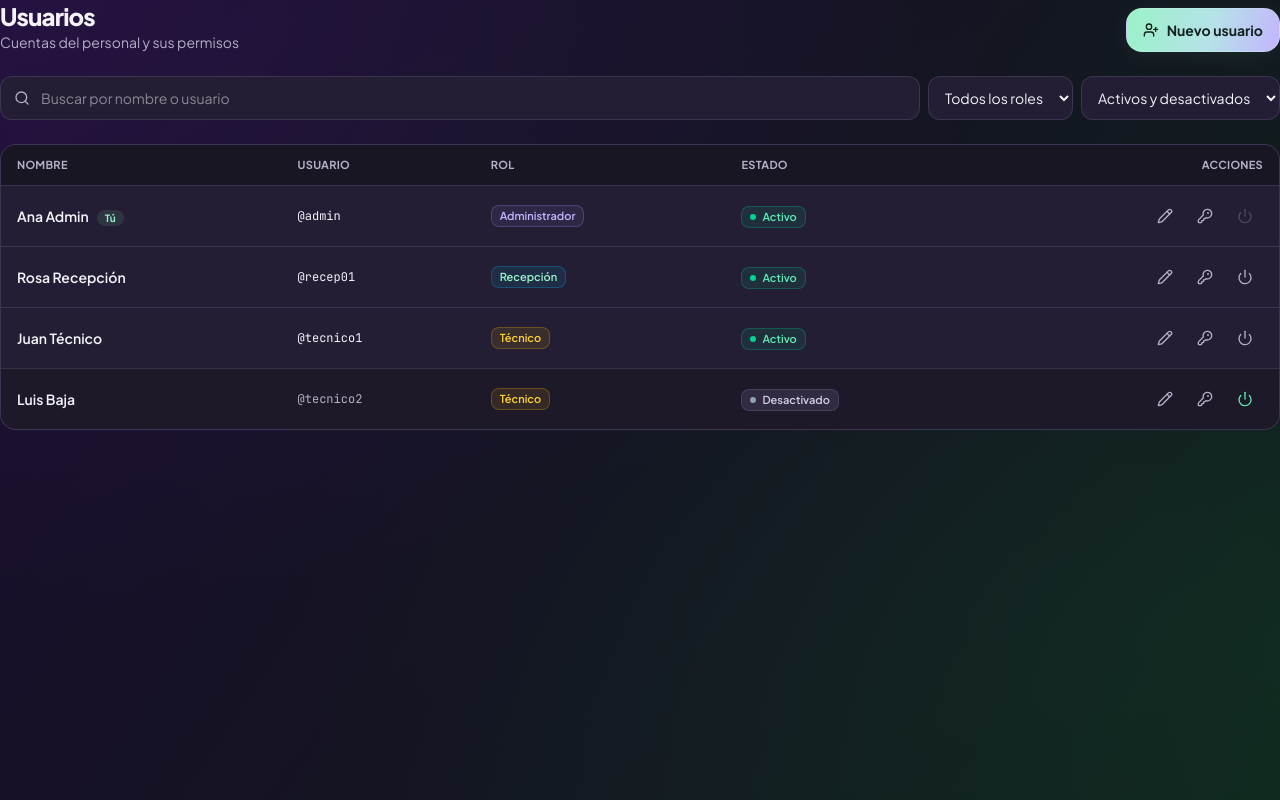
Scenario: UsersPage create modal › creates the account, shows a toast and refreshes the list [008/RF-2.5]
Expected: the text "Rosa Recepción" is shown, [1,246,282,307]
Click the button "Nuevo usuario": (1203, 30) [1126,8,1279,52]
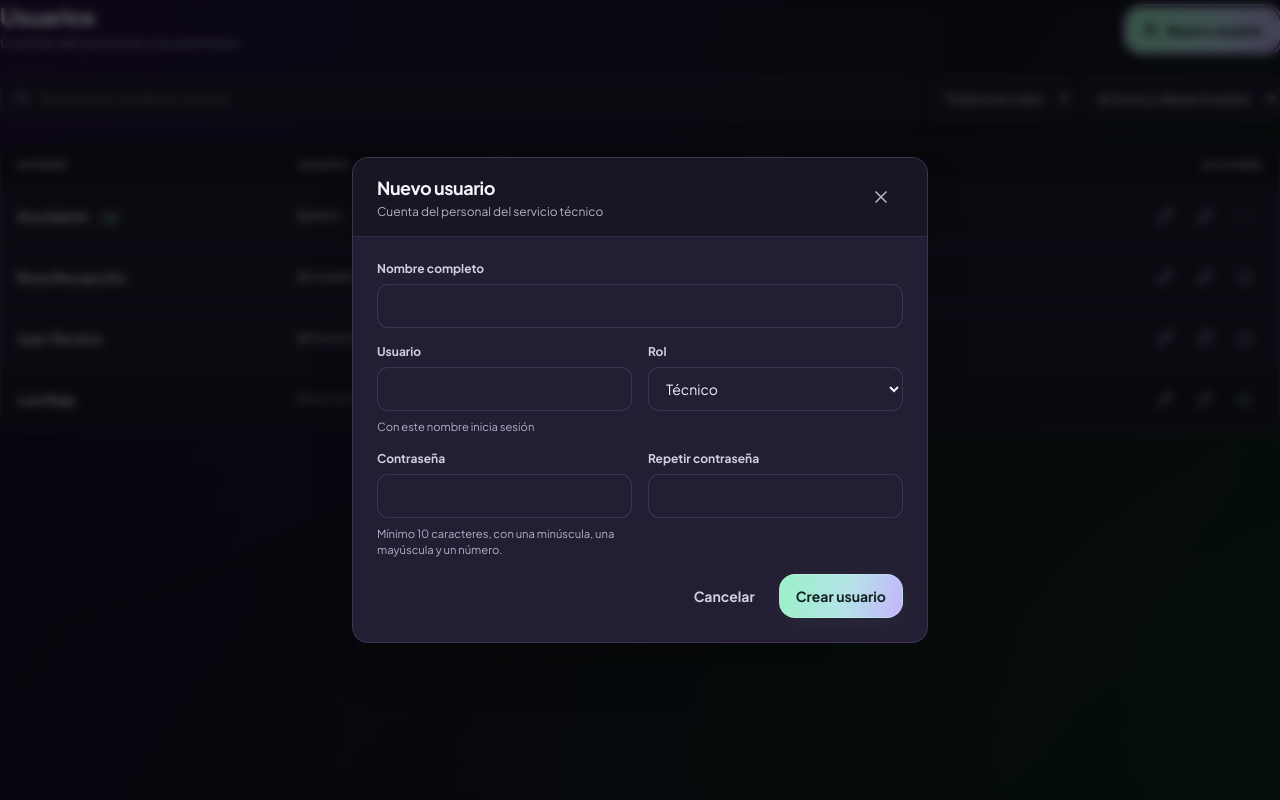
In the field labelled "Nombre completo": (640, 306) [377,284,903,328], type "Carla Nueva"
In the field labelled "Usuario": (504, 389) [377,367,632,411], type "Carla.N"
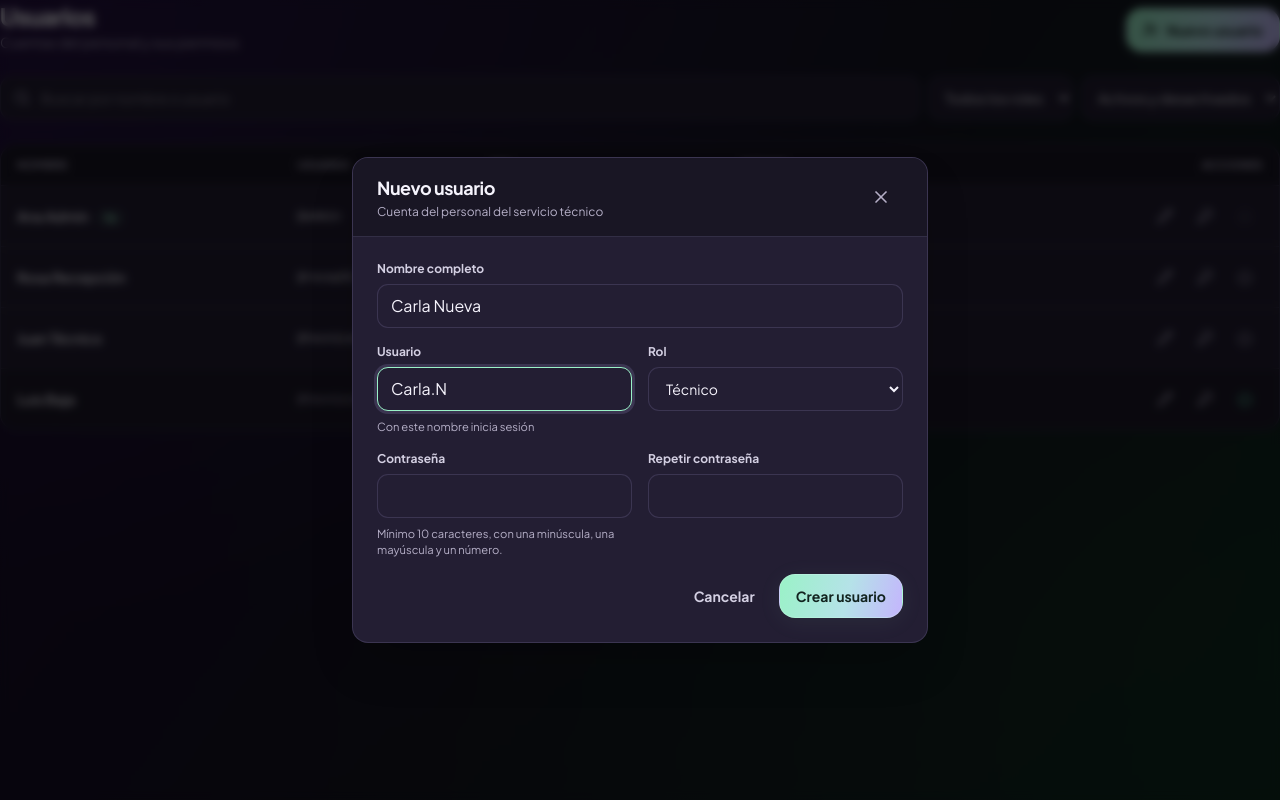
Select "Recepción" in the dropdown labelled "Rol": (776, 389) [648,367,903,411]
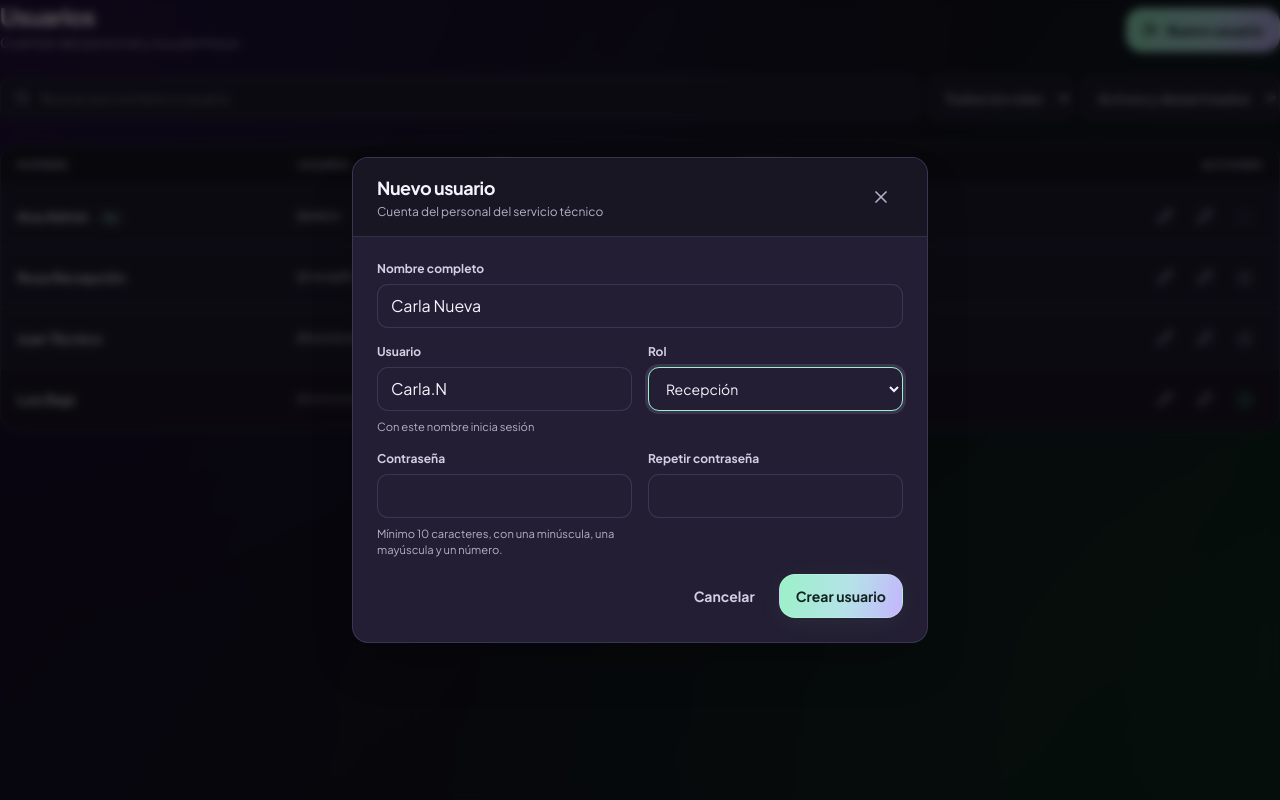
In the password field labelled "Contraseña": (504, 496) [377,474,632,518], type "Segura12345"
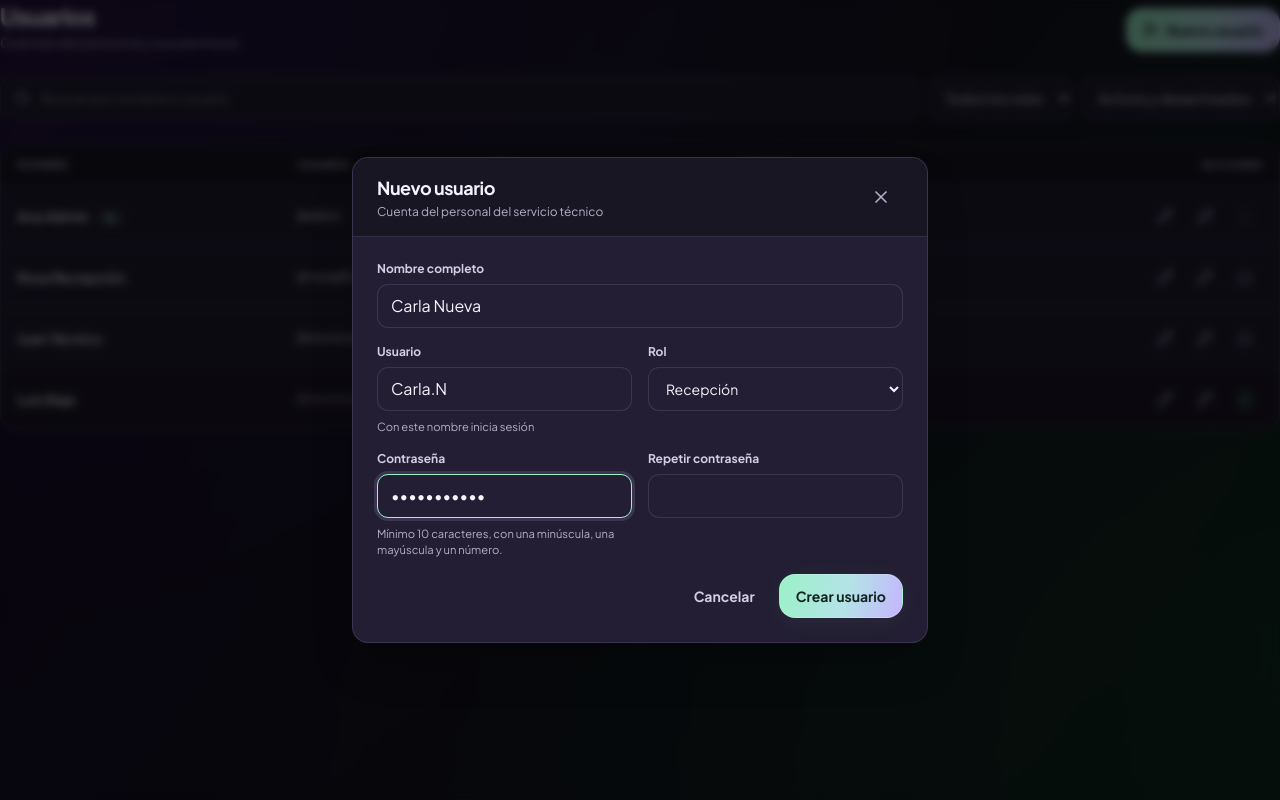
In the password field labelled "Repetir contraseña": (776, 496) [648,474,903,518], type "Segura12345"
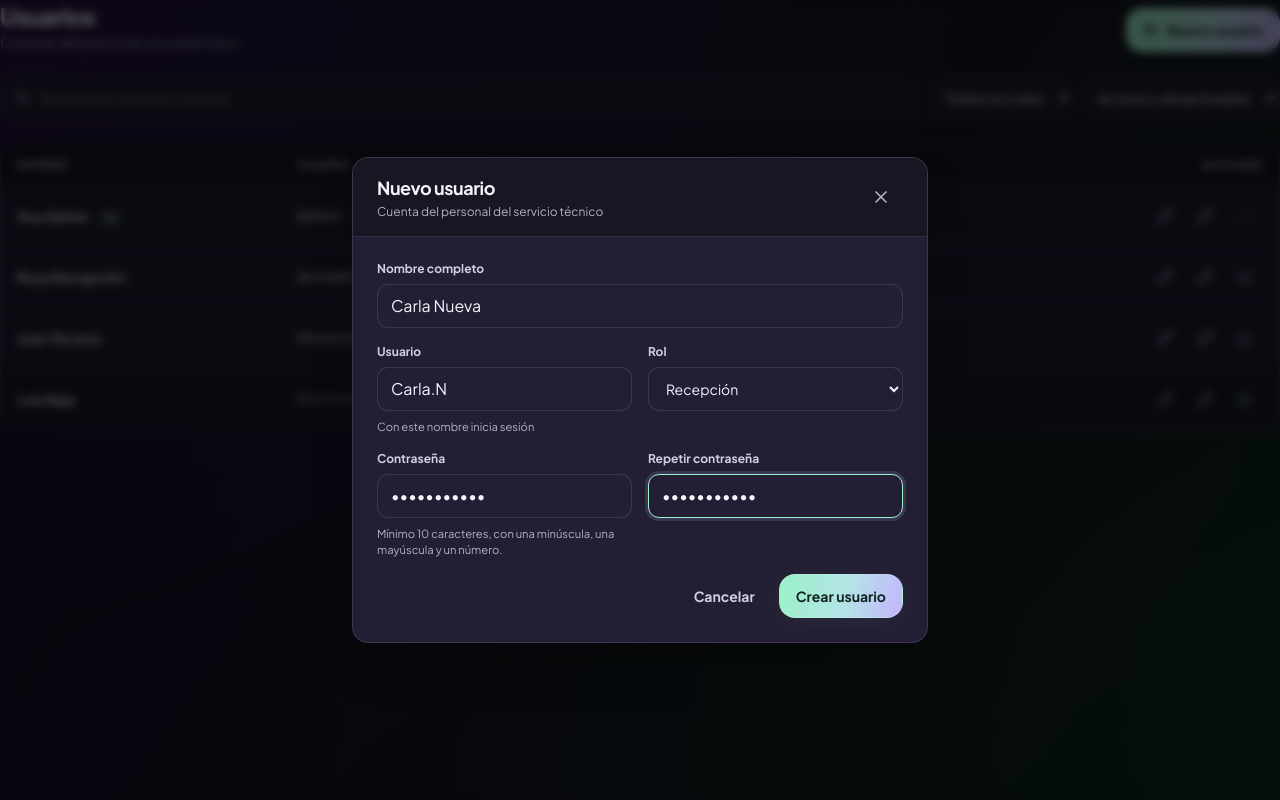
Click the button "Crear usuario": (841, 596) [779,574,903,618]
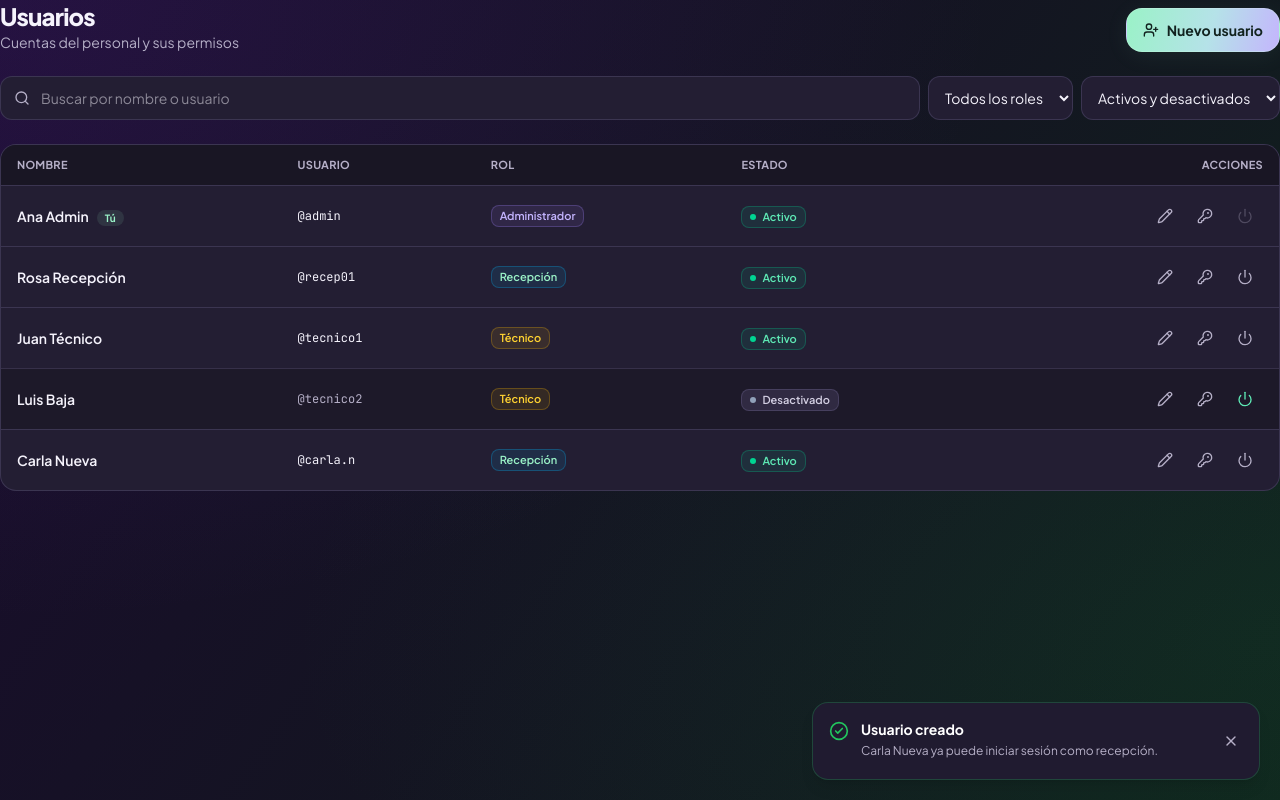
Expected: the heading "Usuario creado" is shown, [861,720,964,738]
Expected: the text "Carla Nueva" is shown, [1,429,282,490]
